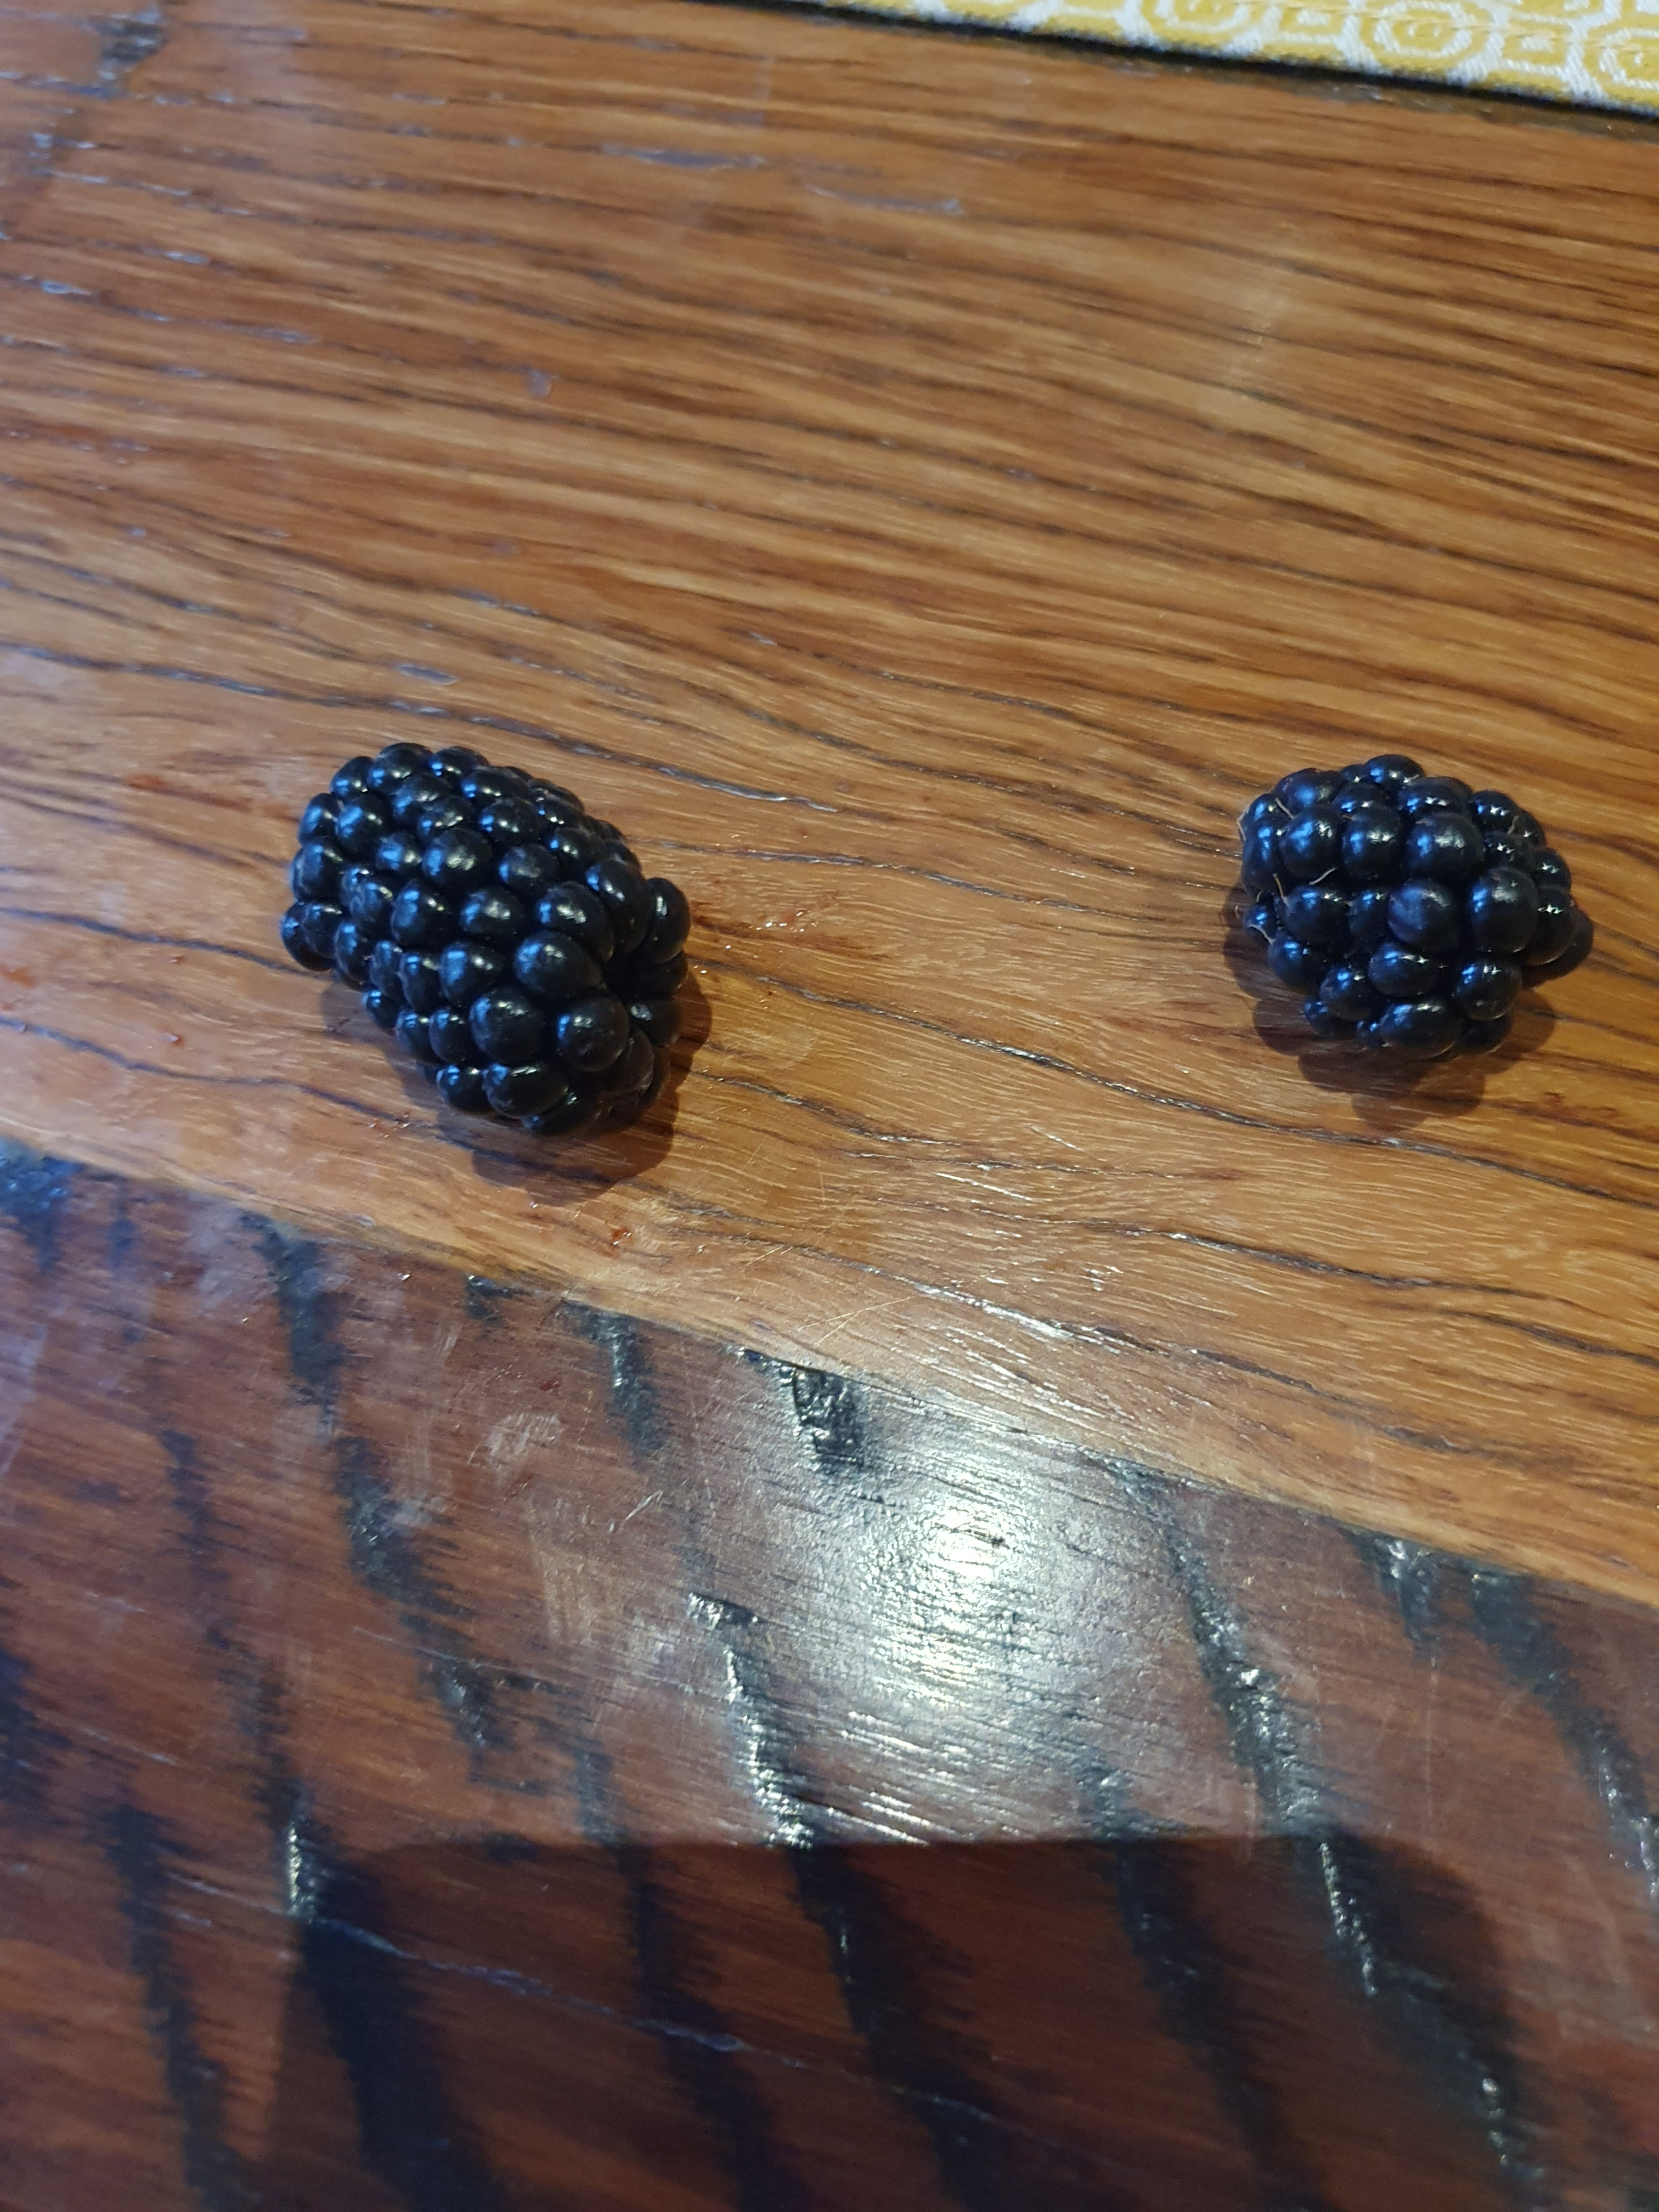blackberry: (227, 712, 723, 1165), (1204, 730, 1600, 1085)
